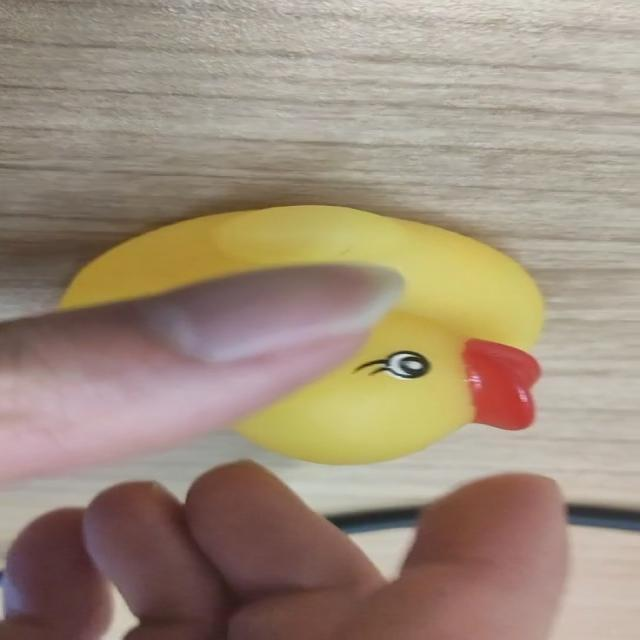rubber-duck: (60, 204, 541, 461)
